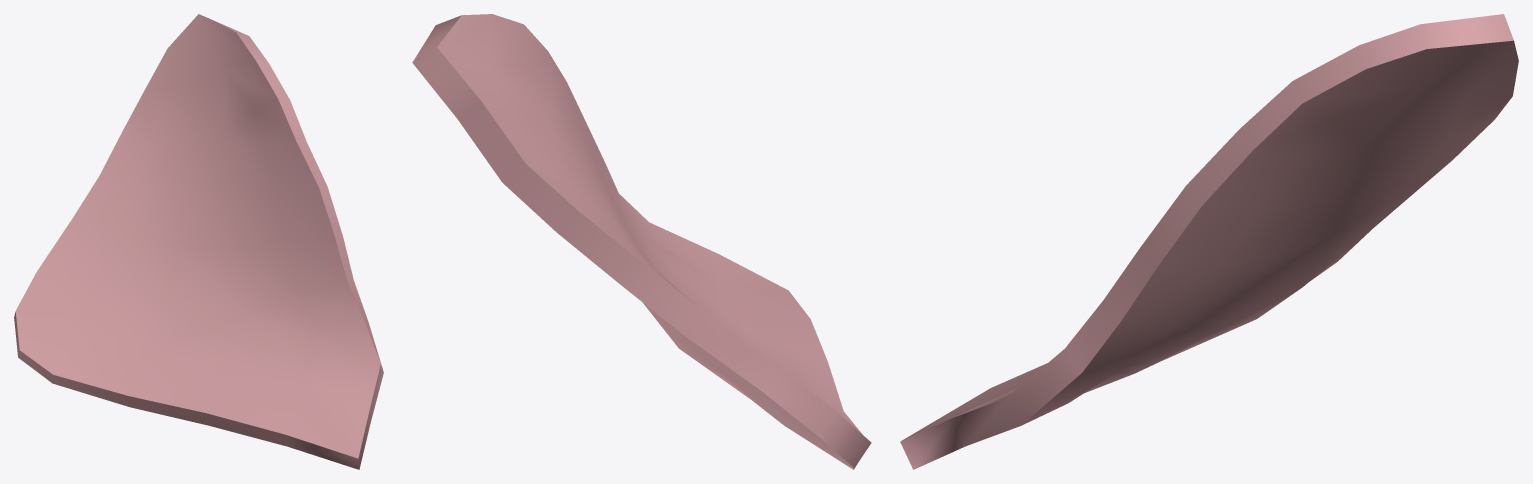
3 renders of one model, left to right at view 1: azimuth 30°, elevation 25°; view 2: azimuth 150°, elevation 25°; view 3: azimuth 270°, elevation 25°, orthographic. The views are drawn at different scales.
Parts seen in each view (by area): view 1: ZA_e9404847eccd5841; view 2: ZA_e9404847eccd5841; view 3: ZA_e9404847eccd5841.
Boxes of the visible parts, x1,y1,x2,y2 form: ZA_e9404847eccd5841: (14, 14, 383, 469); ZA_e9404847eccd5841: (412, 14, 871, 469); ZA_e9404847eccd5841: (900, 14, 1518, 469).
Size of the model in its own units: 0.0453 by 0.0505 by 0.0591.
